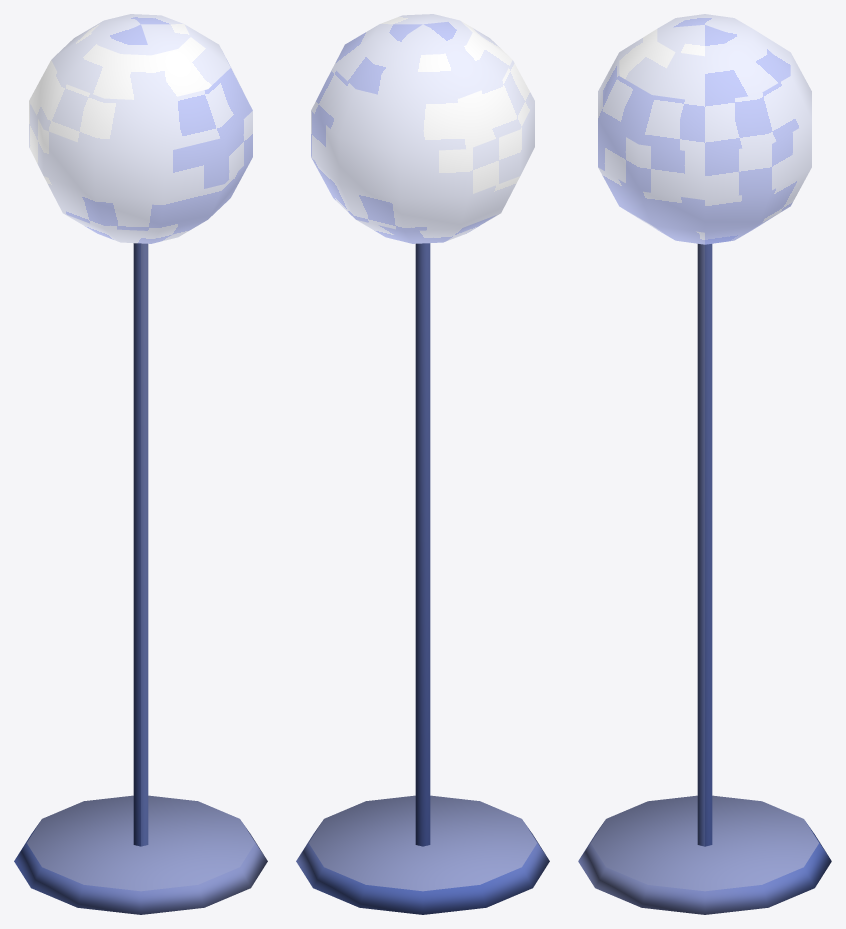
File: lamp_floor.glb
3 renders of one model, left to right at view 1: azimuth 30°, elevation 25°; view 2: azimuth 150°, elevation 25°; view 3: azimuth 270°, elevation 25°, orthographic.
Visible parts, largest first — view 1: kit_lamp_shade, kit_lamp_stand; view 2: kit_lamp_shade, kit_lamp_stand; view 3: kit_lamp_shade, kit_lamp_stand.
Boxes of the visible parts, box(x1,y1,x2,y2) form: kit_lamp_shade: box(29, 14, 252, 243); kit_lamp_stand: box(14, 243, 267, 914); kit_lamp_shade: box(311, 14, 534, 243); kit_lamp_stand: box(296, 243, 549, 914); kit_lamp_shade: box(598, 14, 811, 244); kit_lamp_stand: box(578, 244, 831, 914).
Size of the model in its own units: 0.44 by 1.6 by 0.44.
Materials: 2 (1 with a texture image).
